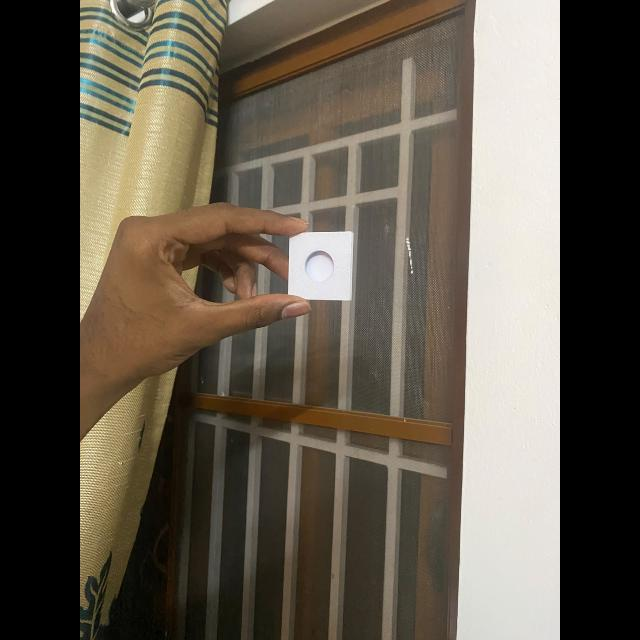RASPBERY PI CAM ENCLOSURE: (288, 231, 354, 301)
